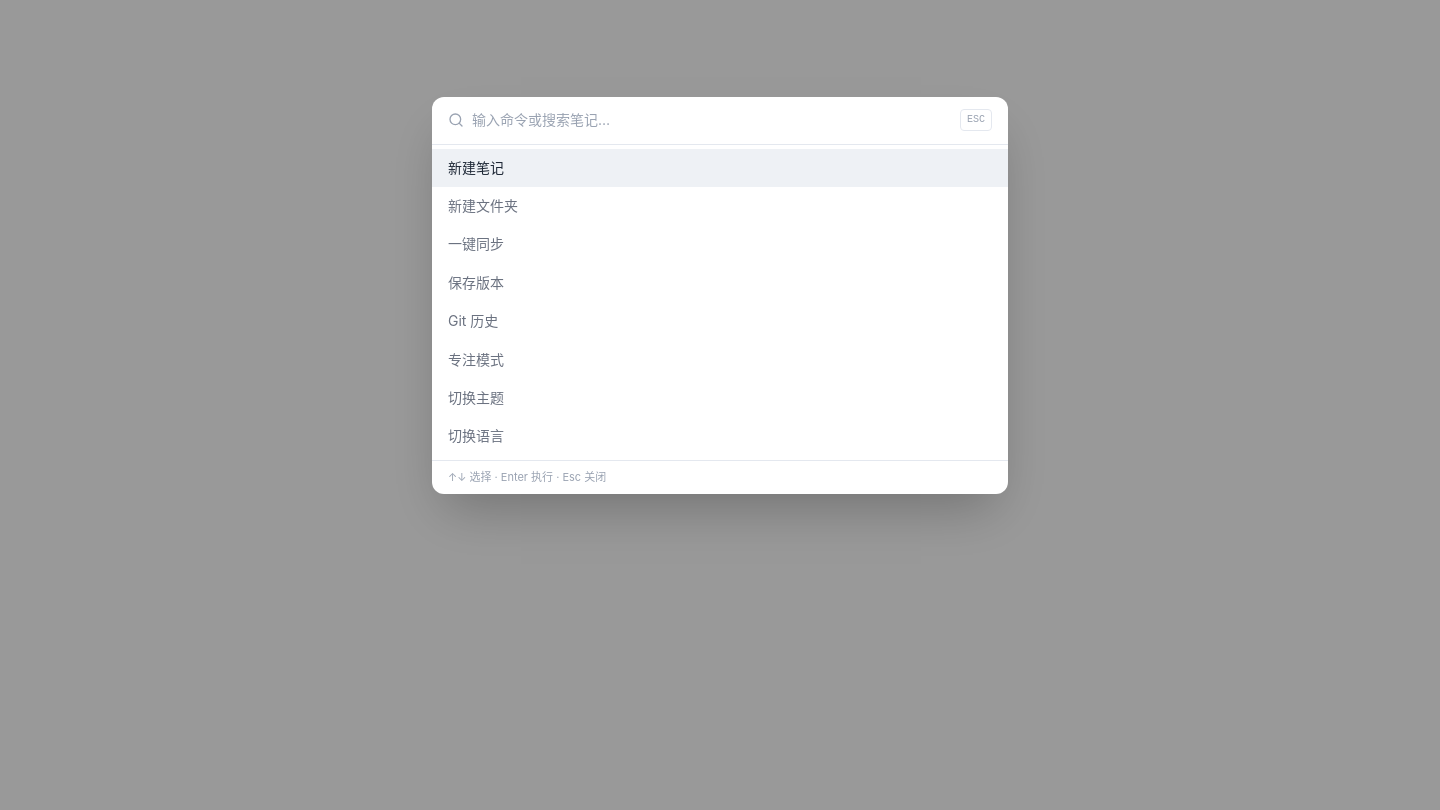
Test: CommandPalette › 加密搜索结果展示锁徽标
Type "rust" into the field with placeholder "输入命令或搜索笔记…". click: (712, 120)
box: [472,109,952,132]
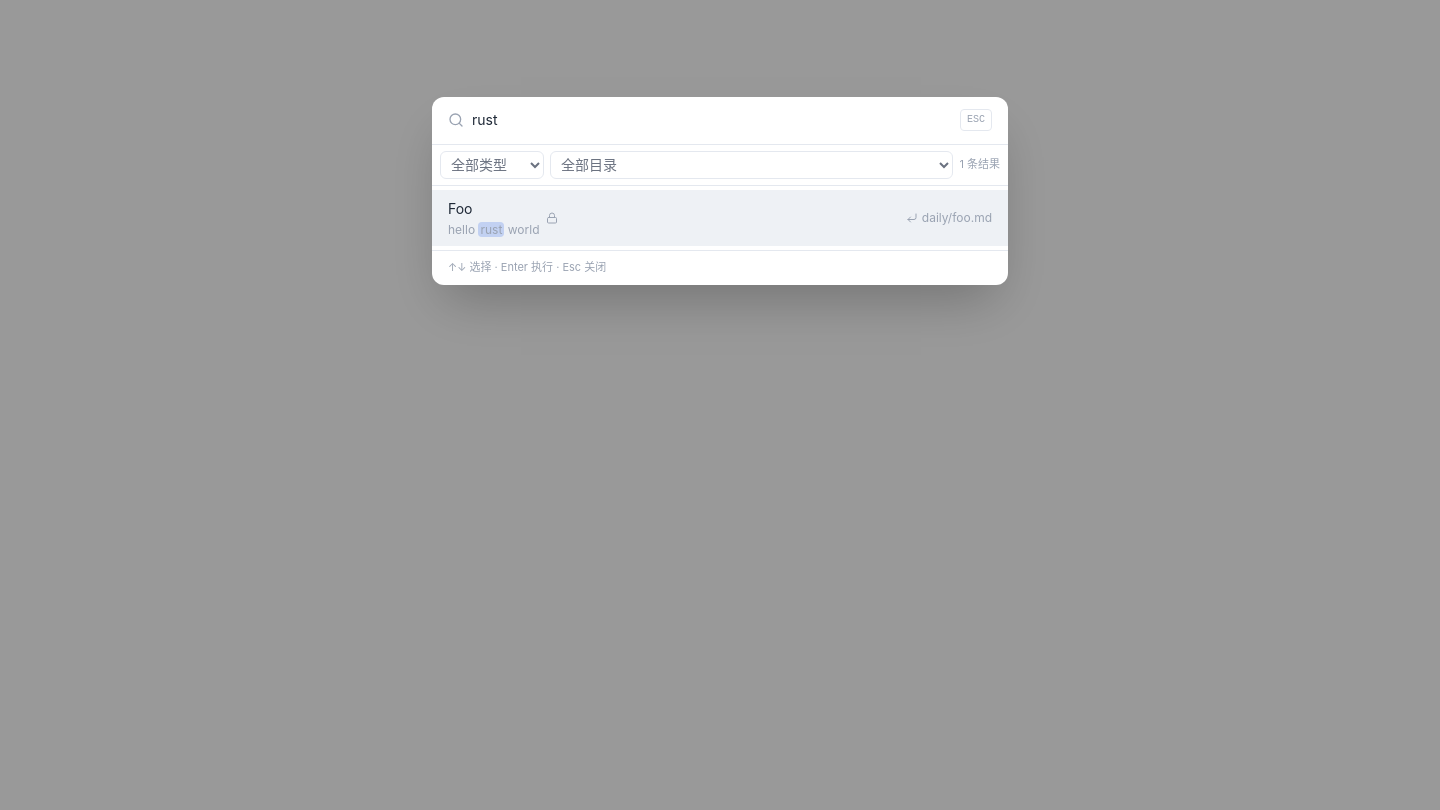
Check: the picture named "已加密" is shown, box [546,212,558,224]
